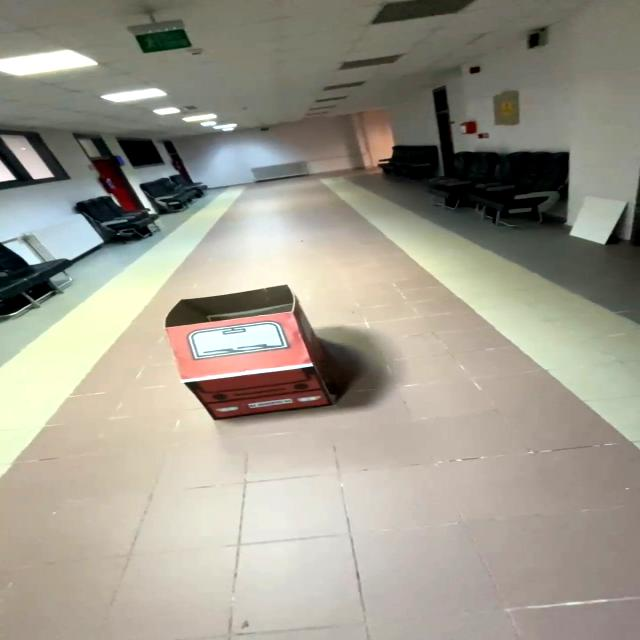red_car: (141, 274, 373, 435)
